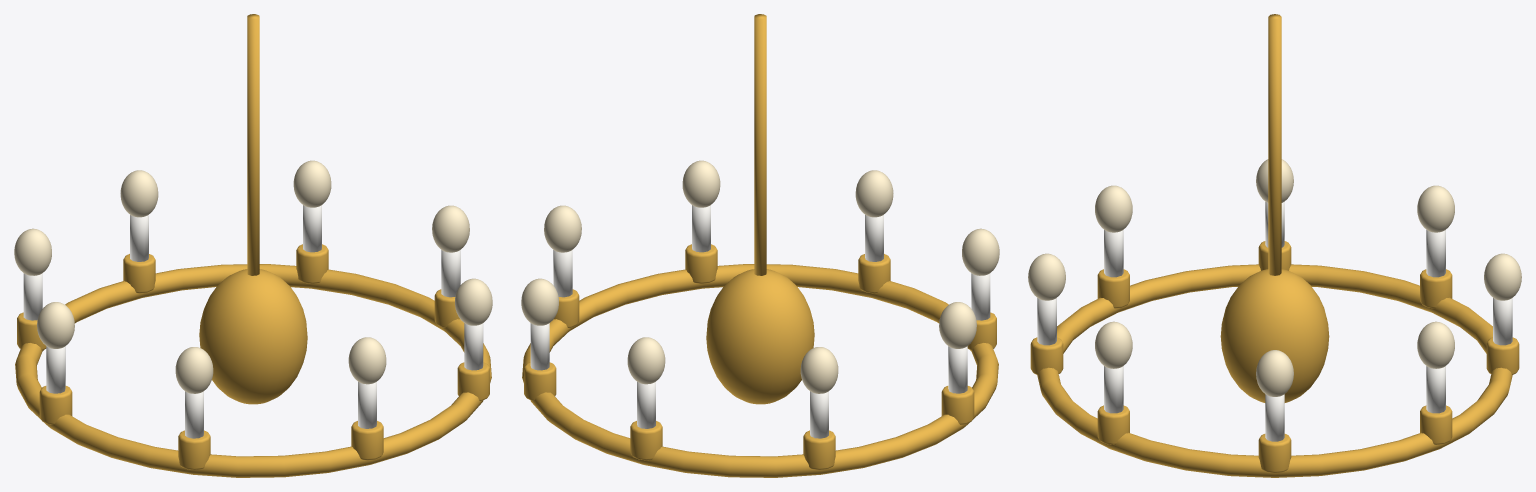
The model's file is lustre.glb.
The picture shows the model from 3 angles, left to right: view 1: azimuth 30°, elevation 25°; view 2: azimuth 150°, elevation 25°; view 3: azimuth 270°, elevation 25°; orthographic projection.
Visible parts, largest first — view 1: anneau, coeur, chaine, ampoule1, ampoule2, ampoule6, ampoule0, ampoule5, ampoule7, ampoule4, ampoule3, bougeoir5 (+15 smaller); view 2: anneau, coeur, chaine, ampoule6, ampoule7, ampoule2, ampoule0, ampoule3, ampoule1, ampoule4, ampoule5, bougeoir3 (+15 smaller); view 3: anneau, coeur, chaine, ampoule2, ampoule6, ampoule3, ampoule5, ampoule0, ampoule1, ampoule7, bougeoir0, bougeoir1 (+14 smaller).
Part boxes in pixels (left/top/right/bottom): anneau: left=15, top=264, right=491, bottom=477; coeur: left=199, top=269, right=307, bottom=404; chaine: left=247, top=14, right=259, bottom=275; ampoule1: left=293, top=160, right=331, bottom=207; ampoule2: left=120, top=170, right=158, bottom=217; ampoule6: left=348, top=337, right=386, bottom=384; ampoule0: left=432, top=205, right=469, bottom=252; ampoule5: left=175, top=347, right=213, bottom=393; ampoule7: left=455, top=278, right=492, bottom=325; ampoule4: left=37, top=302, right=74, bottom=348; ampoule3: left=14, top=228, right=51, bottom=275; bougeoir5: left=178, top=430, right=210, bottom=469; anneau: left=522, top=264, right=998, bottom=477; coeur: left=706, top=269, right=814, bottom=404; chaine: left=754, top=14, right=766, bottom=275; ampoule6: left=855, top=170, right=893, bottom=217; ampoule7: left=682, top=160, right=720, bottom=207; ampoule2: left=627, top=337, right=665, bottom=384; ampoule0: left=544, top=205, right=581, bottom=252; ampoule3: left=800, top=347, right=838, bottom=393; ampoule1: left=521, top=278, right=558, bottom=325; ampoule4: left=939, top=302, right=976, bottom=348; ampoule5: left=962, top=228, right=999, bottom=275; bougeoir3: left=803, top=430, right=835, bottom=469; anneau: left=1037, top=264, right=1512, bottom=477; coeur: left=1220, top=269, right=1329, bottom=402; chaine: left=1268, top=14, right=1281, bottom=275; ampoule2: left=1484, top=253, right=1521, bottom=300; ampoule6: left=1028, top=253, right=1065, bottom=300; ampoule3: left=1417, top=185, right=1454, bottom=232; ampoule5: left=1095, top=185, right=1132, bottom=232; ampoule0: left=1256, top=350, right=1293, bottom=396; ampoule1: left=1417, top=321, right=1454, bottom=368; ampoule7: left=1095, top=321, right=1132, bottom=368; bougeoir0: left=1258, top=434, right=1291, bottom=472; bougeoir1: left=1420, top=405, right=1452, bottom=444.
Size of the model in its own units: 0.91 by 0.78 by 0.91.
